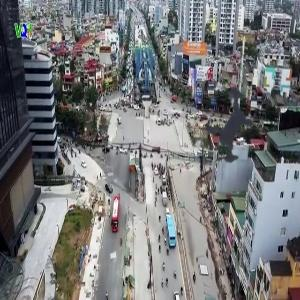drone: (164, 64, 296, 196)
